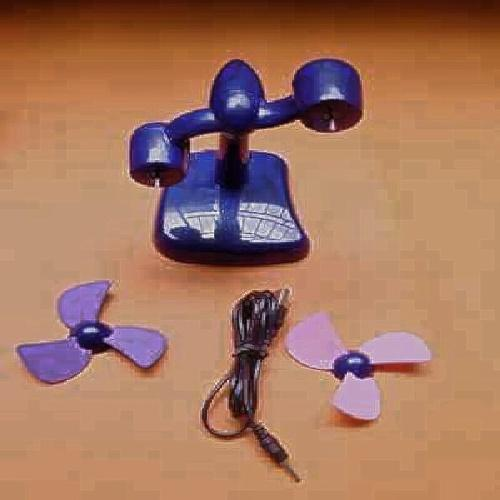fan: (136, 74, 354, 262)
